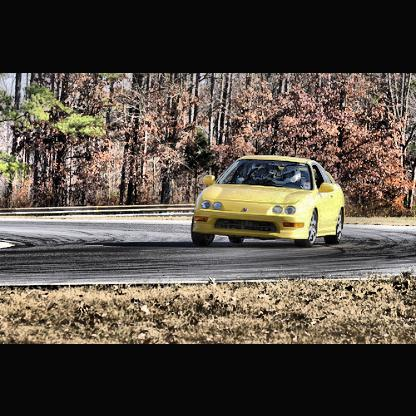Acura Integra Type R 2001: (191, 153, 347, 248)
